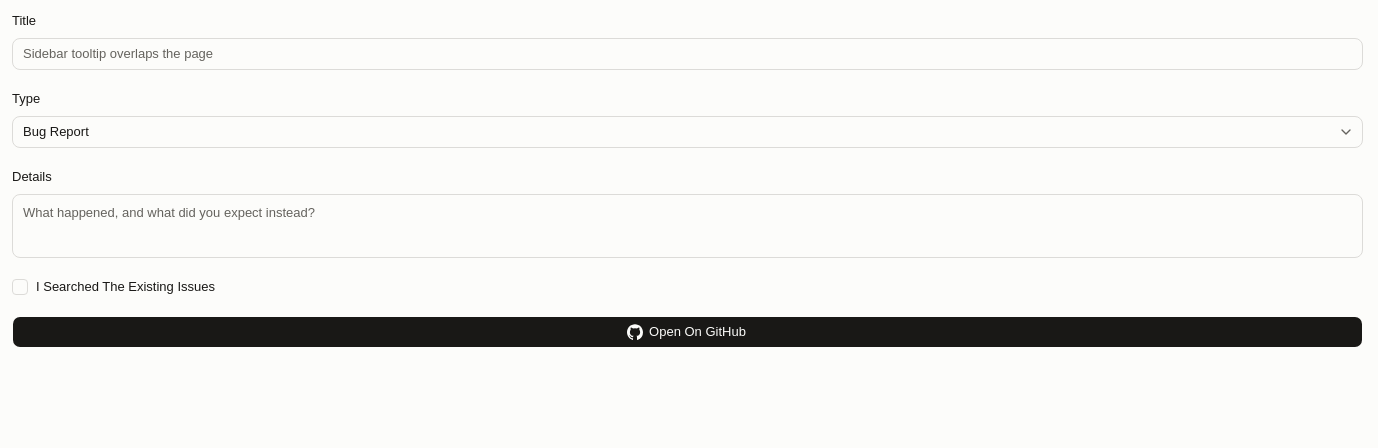
Scenario: IssueForm › stays quiet until the first submit, then updates as the user types
Type "Bug" into the field labelled "Title" at {"x": 688, "y": 54}, box x1=12 y1=38 x2=1363 y2=70
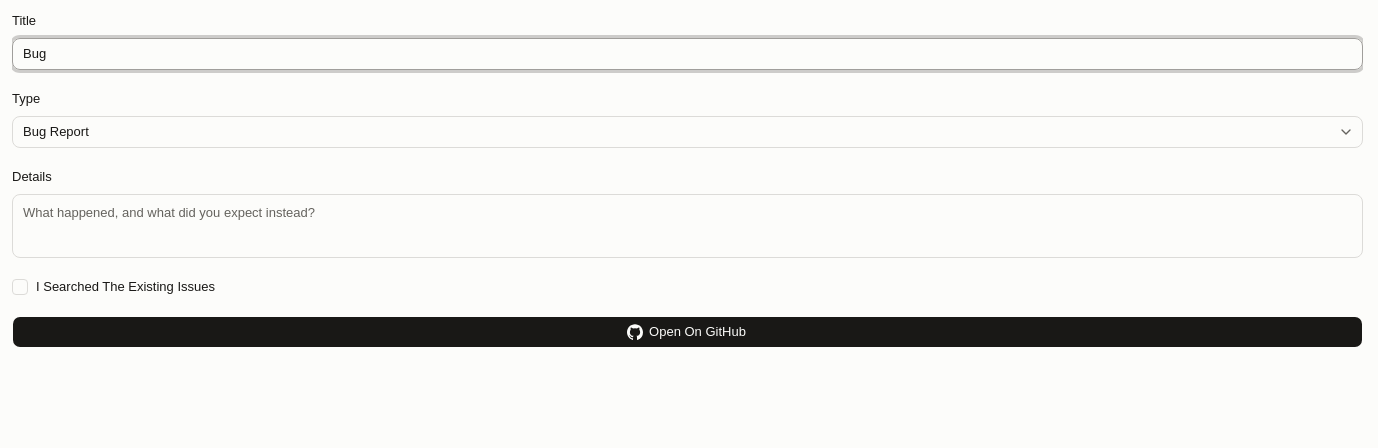
Expected: the text "Use at least 8 characters." is not shown
Click the button "Open On GitHub" at {"x": 688, "y": 332}, box x1=12 y1=316 x2=1363 y2=348
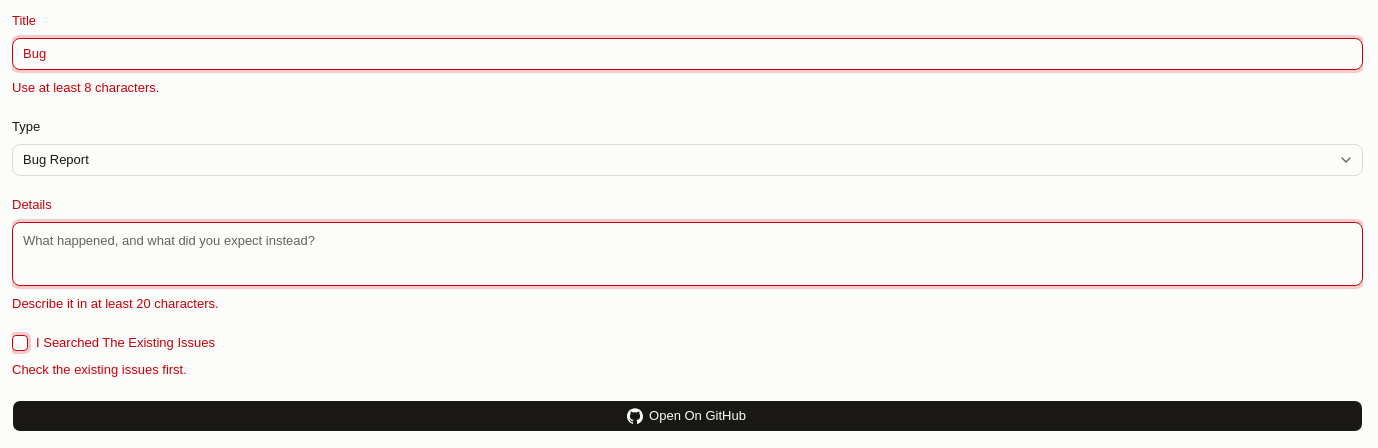
Result: the text "Use at least 8 characters." is shown at x1=12 y1=80 x2=159 y2=95
Type " in the sidebar" into the field labelled "Title" at {"x": 688, "y": 54}, box x1=12 y1=38 x2=1363 y2=70
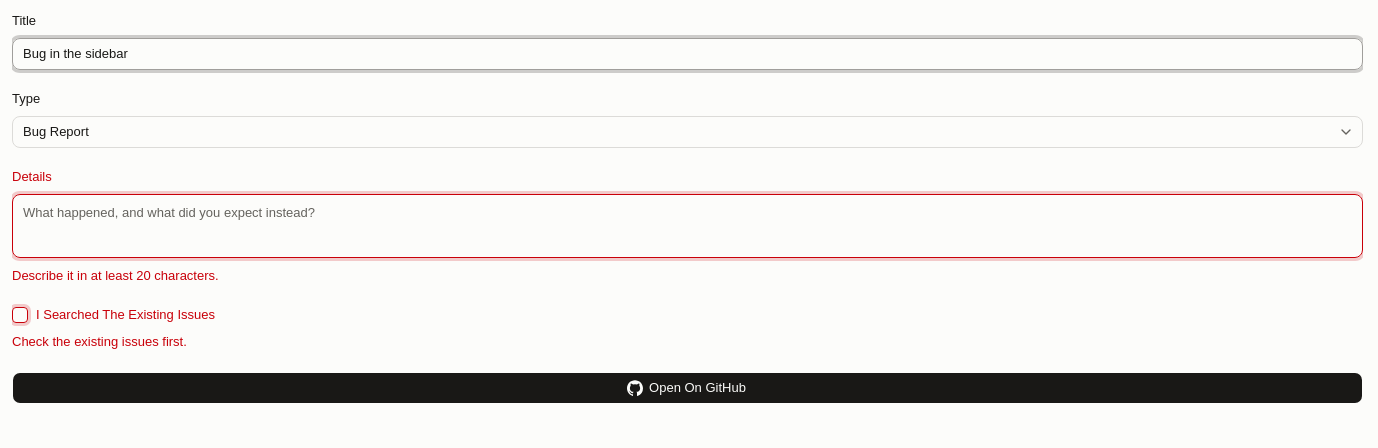
Result: the text "Use at least 8 characters." is gone
